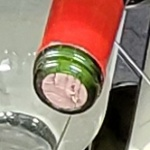bottle: (23, 47, 108, 121)
